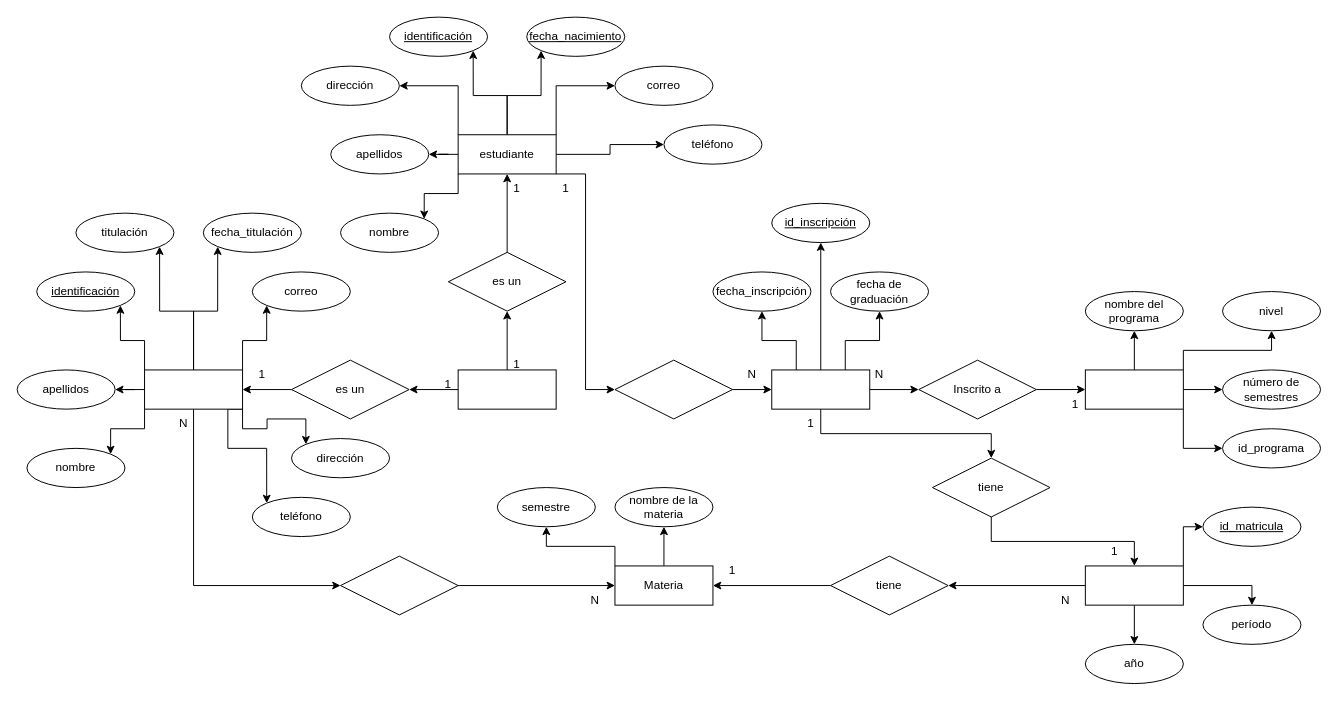
The diagram is 1338 pixels wide and 701 high, and some of its shapes have lost their labels. The centre of each missing label's shape, as x and y in pixels:
Dicta: [399,585]
Inscripción: [820,389]
Matrícula: [1133,585]
Persona: [506,389]
profesor: [193,389]
Programa: [1133,389]
Realiza: [673,389]
